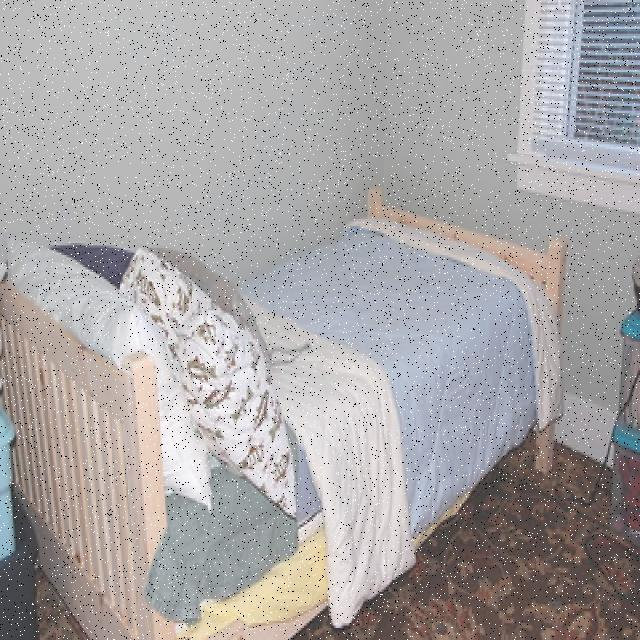bed: (12, 224, 577, 595)
